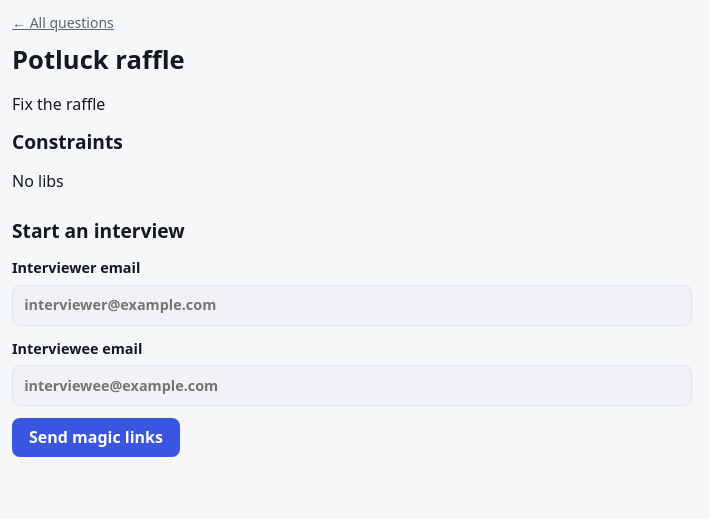
it: QuestionPage › rejects identical emails
Expected: the heading "Potluck raffle" is shown, [12, 42, 185, 77]
Type "a@example.com" into the field labelled "Interviewer email".
click(352, 305); type("a@example.com")  # box [12, 284, 692, 326]
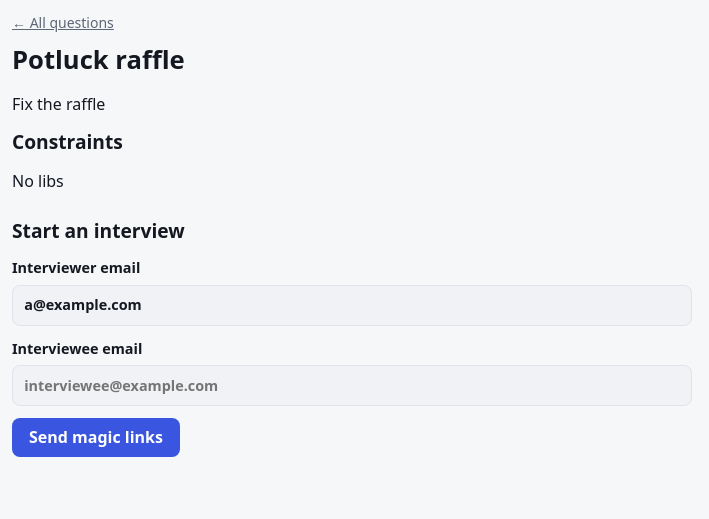
Type "A@Example.com" into the field labelled "Interviewee email".
click(352, 386); type("A@Example.com")  # box [12, 365, 692, 406]
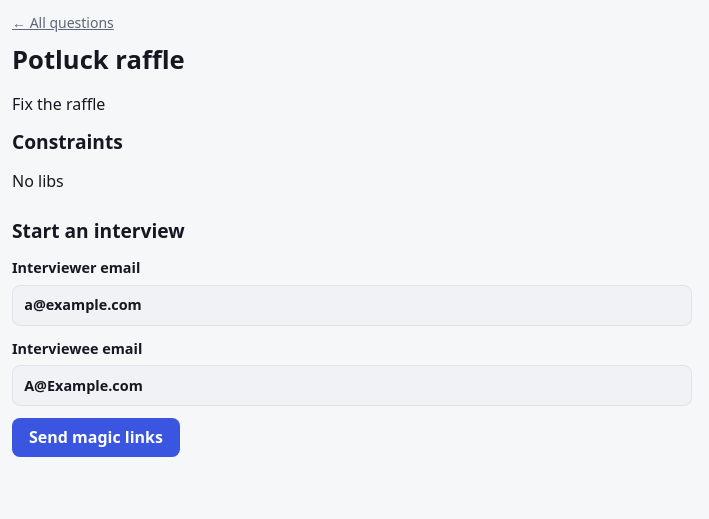
Click the button "Send magic links".
click(96, 437)  # box [12, 418, 180, 457]
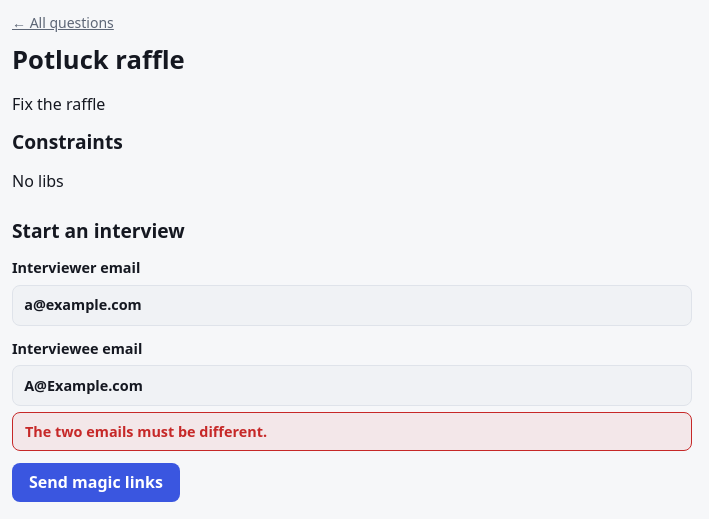
Expected: the text "The two emails must be different." is shown, [12, 412, 692, 451]
